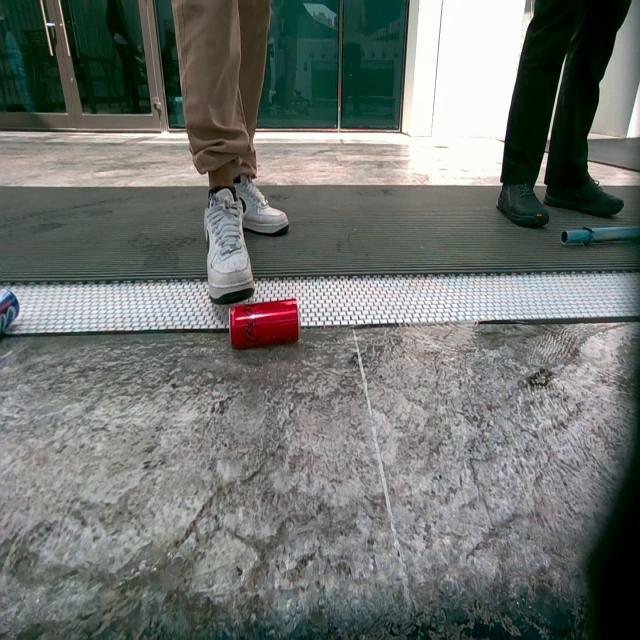Cans: (230, 300, 301, 350), (0, 288, 18, 356)
